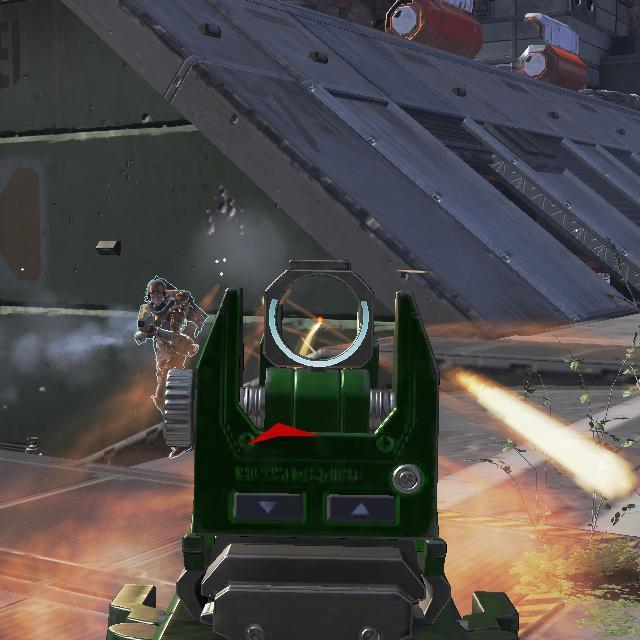avatar: (132, 274, 203, 373)
